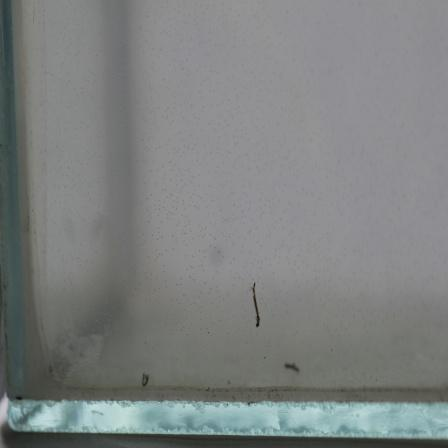Jentik-Nyamuk: (248, 281, 264, 333), (138, 371, 152, 391)
